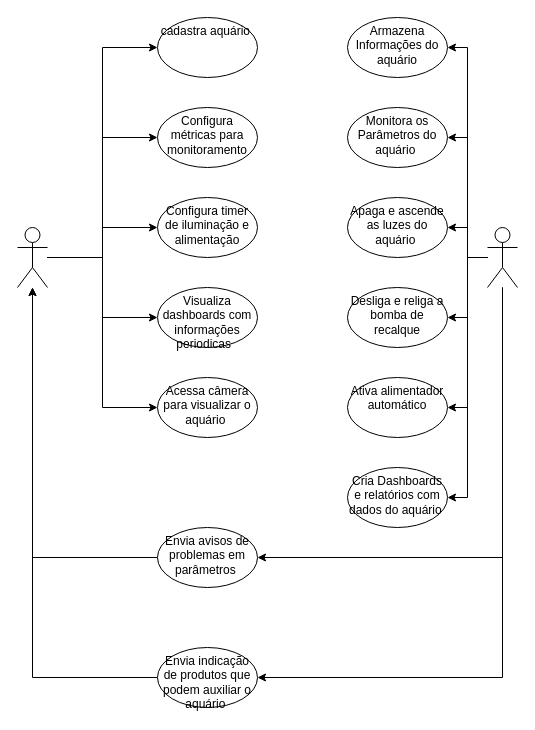
Image size: 535x730. Some labels were removed from this diagram. The shapes that lost their labels are listed below. From the top down, each one's centre as x and y in pixels, then its label:
(x=32, y=257): User
(x=502, y=257): App
